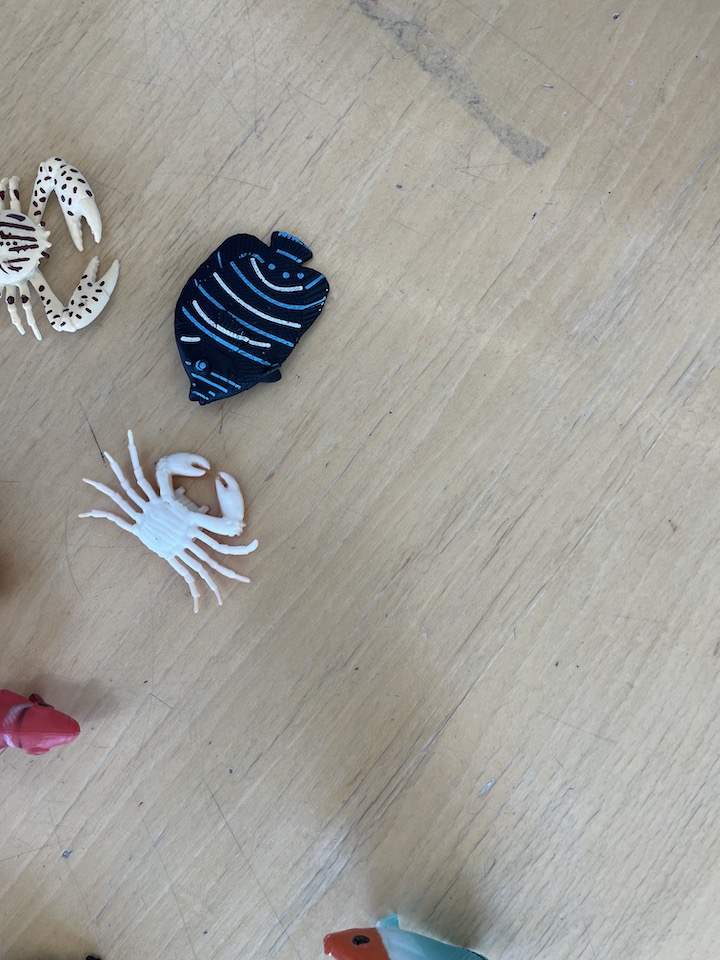crab: (77, 425, 260, 619), (1, 155, 122, 345)
fish: (172, 225, 336, 413), (321, 915, 495, 960), (1, 683, 84, 757)
